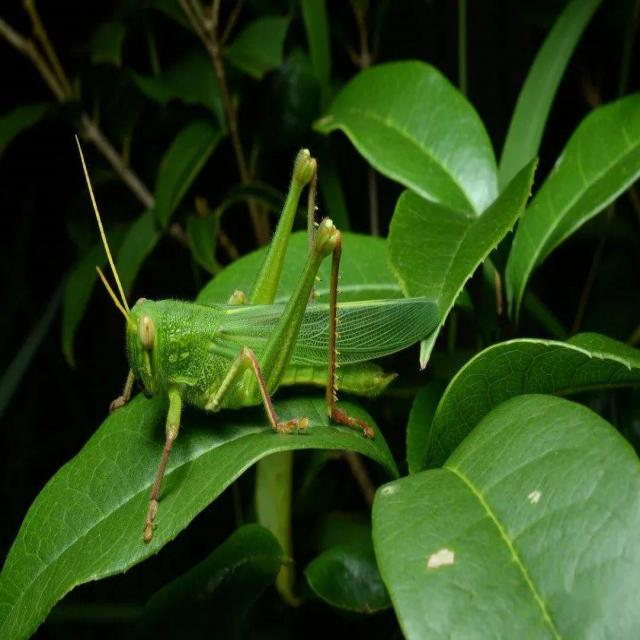ZhaMeng: (92, 145, 442, 438)
